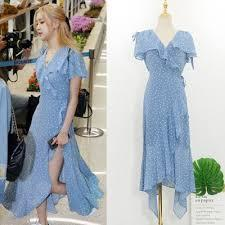dress: (8, 41, 99, 218), (134, 29, 197, 218)
